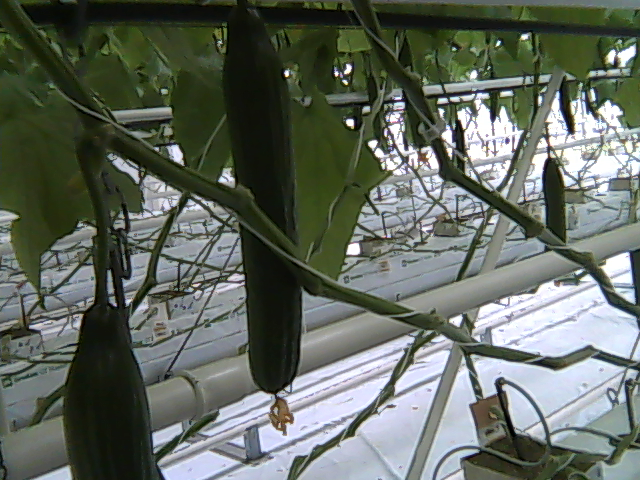concombre: (219, 1, 308, 441), (61, 296, 165, 480)
